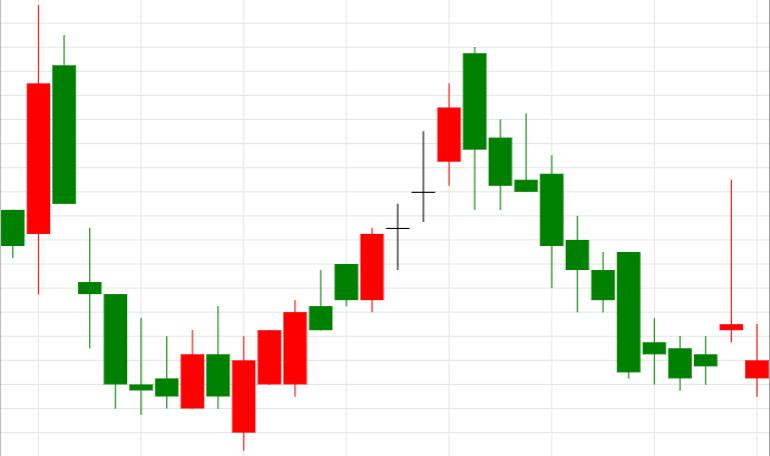bearish_engulfing_fall: (232, 46, 486, 450)
